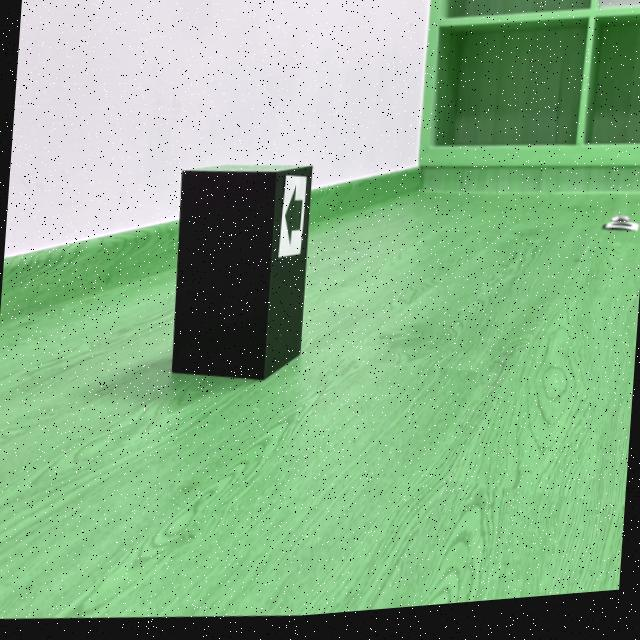LEFT: (284, 194, 303, 248)
